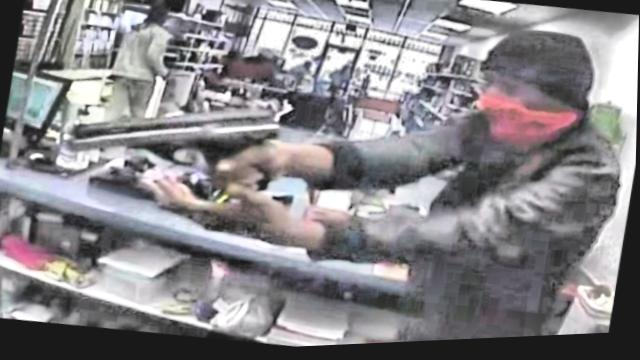pistol: (61, 82, 282, 209)
